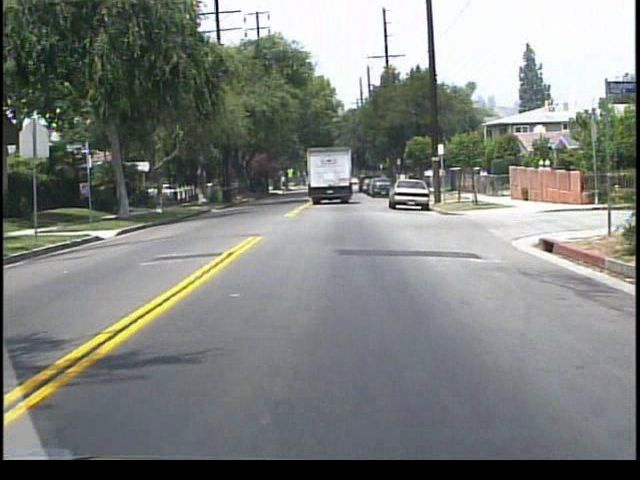person: (477, 166, 490, 197)
